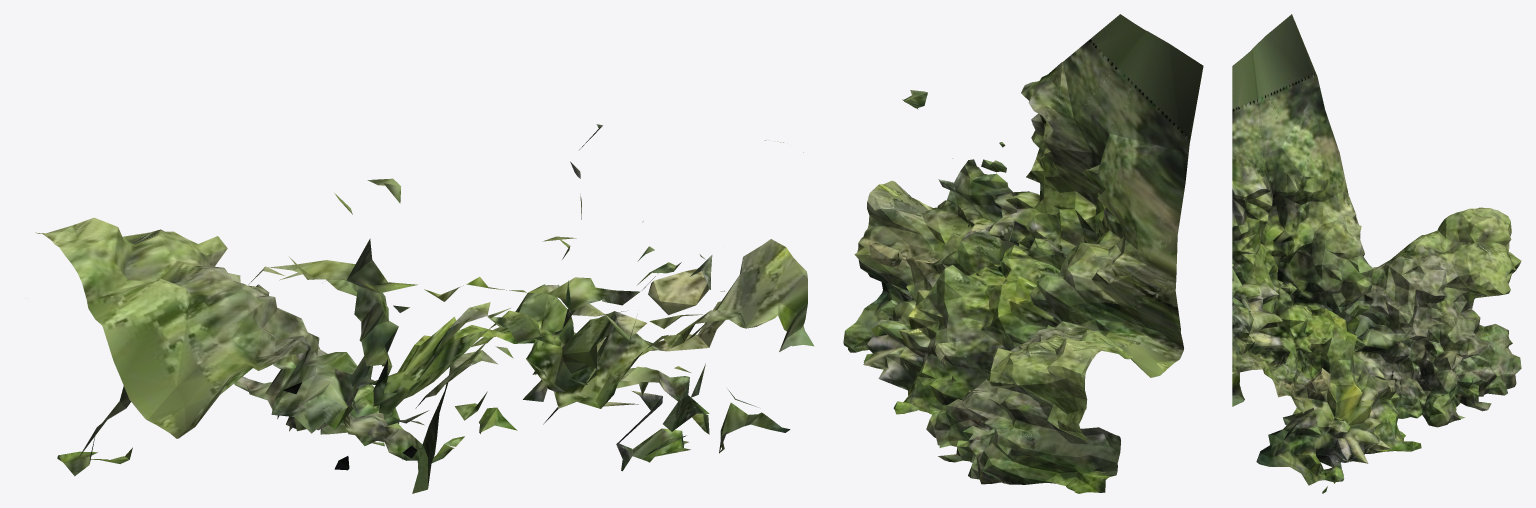
3 renders of one model, left to right at view 1: azimuth 30°, elevation 25°; view 2: azimuth 150°, elevation 25°; view 3: azimuth 270°, elevation 25°, orthographic. The views are drawn at different scales.
Bounding box in the file's own units: 26.11 × 26.11 × 20.91.
4 materials, 4 textured.
